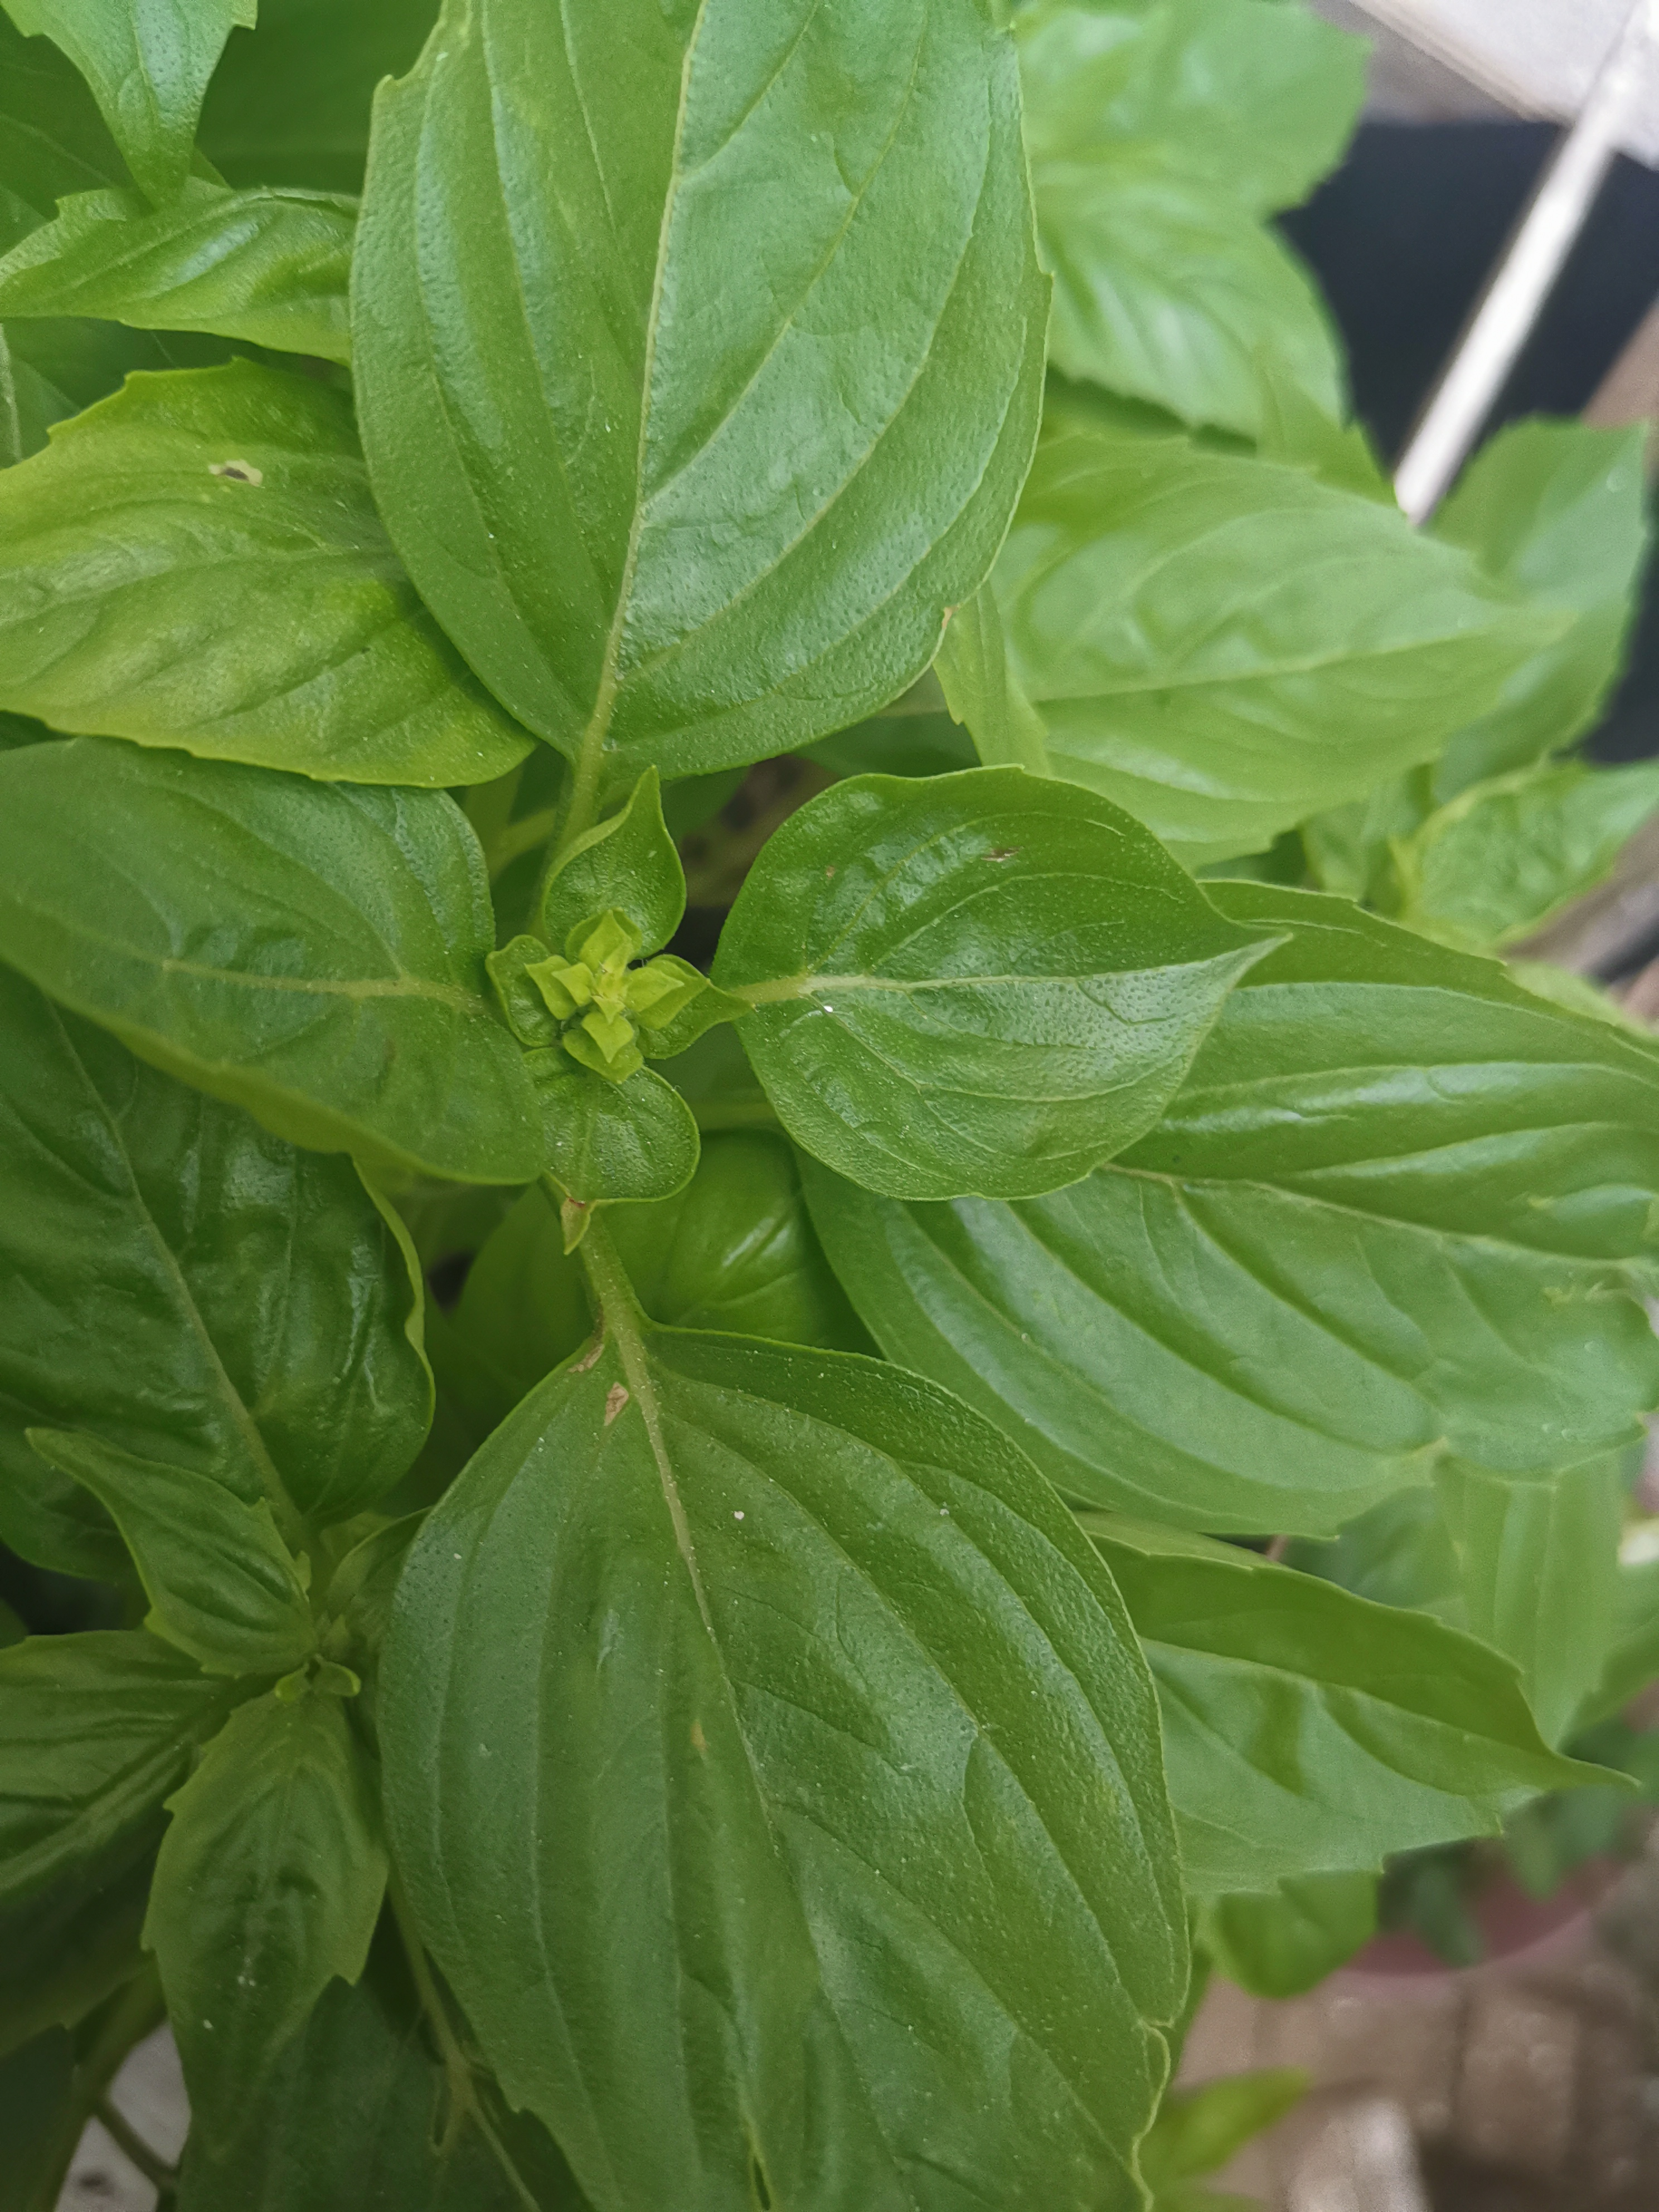Basil_healthy: (376, 1339, 1202, 2212), (328, 0, 1053, 782), (819, 873, 1659, 1534), (0, 946, 471, 1559), (969, 434, 1575, 900), (739, 737, 1293, 1235), (0, 723, 540, 1214), (105, 1684, 411, 2165)
